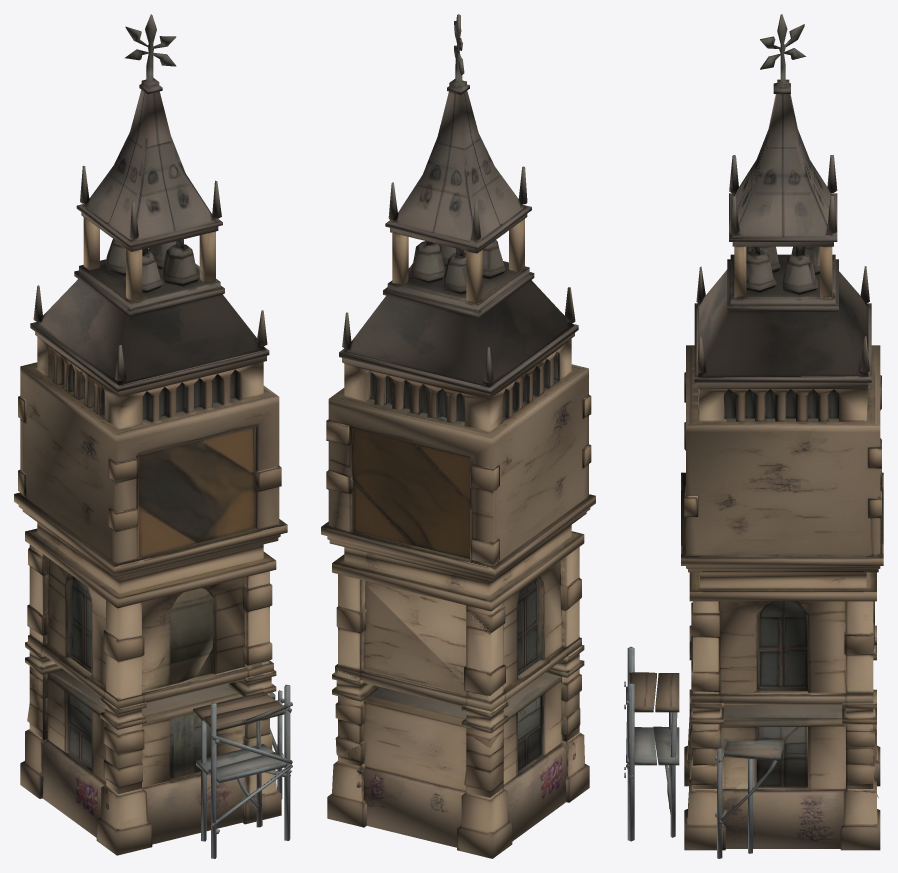
File: big+ben+clock+tower+3d+model.glb
3 renders of one model, left to right at view 1: azimuth 30°, elevation 25°; view 2: azimuth 150°, elevation 25°; view 3: azimuth 270°, elevation 25°, orthographic.
Visible parts, largest first — view 1: tripo_node_3a33581b-94f6-48d7-9408-155b08c321b3; view 2: tripo_node_3a33581b-94f6-48d7-9408-155b08c321b3; view 3: tripo_node_3a33581b-94f6-48d7-9408-155b08c321b3.
Boxes of the visible parts, x1=… form: tripo_node_3a33581b-94f6-48d7-9408-155b08c321b3: x1=14, y1=14, x2=292, y2=858; tripo_node_3a33581b-94f6-48d7-9408-155b08c321b3: x1=321, y1=14, x2=595, y2=858; tripo_node_3a33581b-94f6-48d7-9408-155b08c321b3: x1=624, y1=14, x2=883, y2=858.
Bounding box in the file's own units: 0.252 × 0.998 × 0.2949.
Materials: 1 (1 with a texture image).
